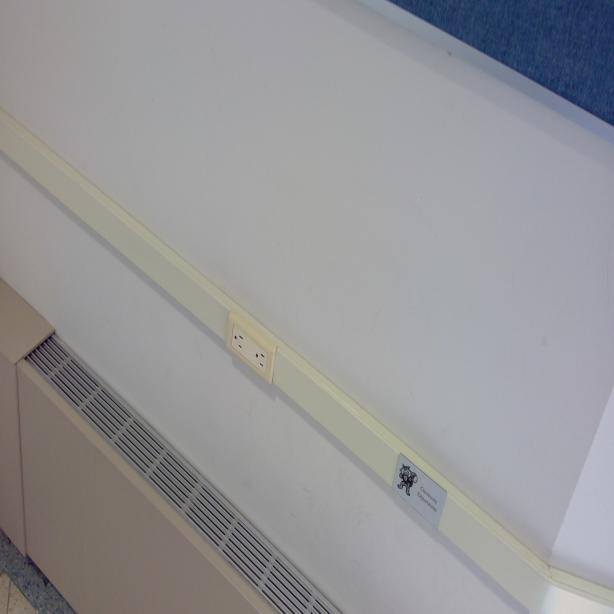typeb: (251, 342, 267, 373), (230, 326, 245, 356)
